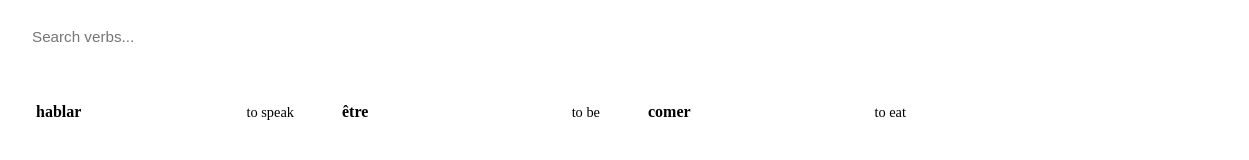
it: filters verbs by the target word as the user types
The width and height of the screenshot is (1249, 160).
Type "hab" into the search field with placeholder "Search verbs...".
click(624, 36); type("hab")  # box [16,16,1232,57]
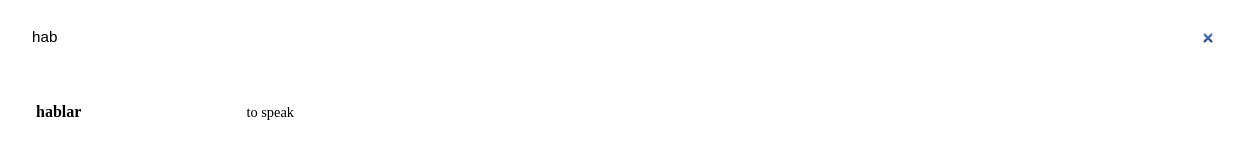
Check: the text "hablar" is shown, box [36,103,81,121]
Check: the link "comer" is gone
